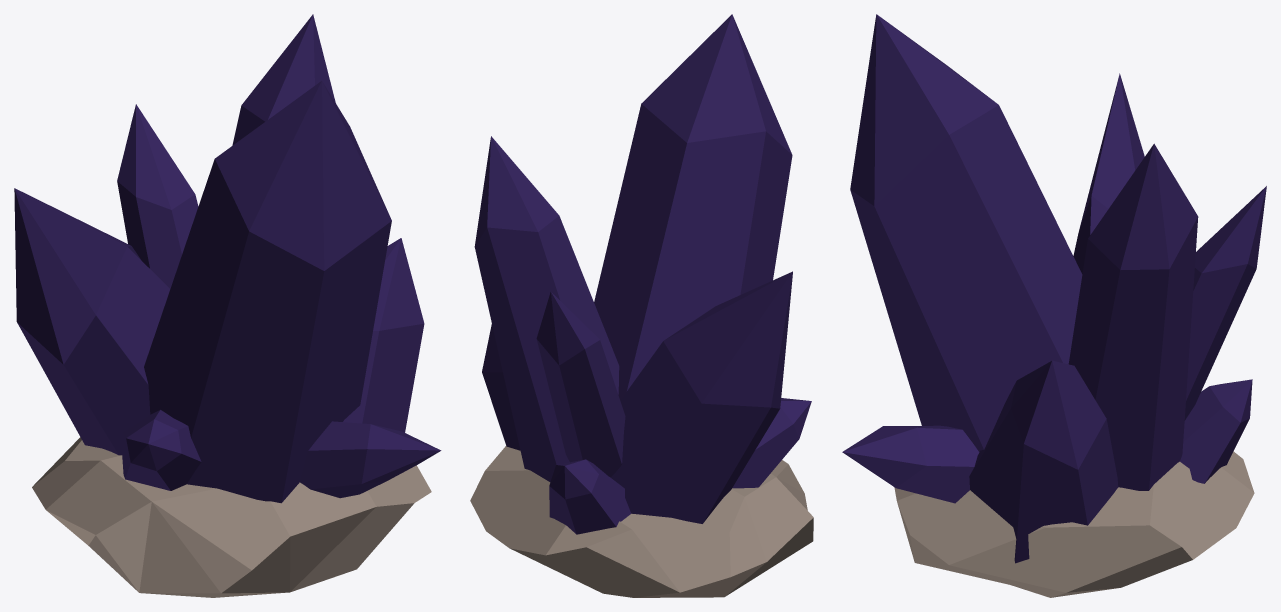
Rendered from cristaux_v2.fbx.
3 views of the same model, side by side, from view 1: azimuth 30°, elevation 25°; view 2: azimuth 150°, elevation 25°; view 3: azimuth 270°, elevation 25° (orthographic). The views are drawn at different scales.
Parts seen in each view (by area): view 1: Cylinder.009; view 2: Cylinder.009; view 3: Cylinder.009.
Part boxes in pixels (<box>): Cylinder.009: <box>14,14,441,597</box>; Cylinder.009: <box>470,14,813,597</box>; Cylinder.009: <box>842,14,1266,597</box>.
Bounding box in the file's own units: 300 × 425 × 300.
